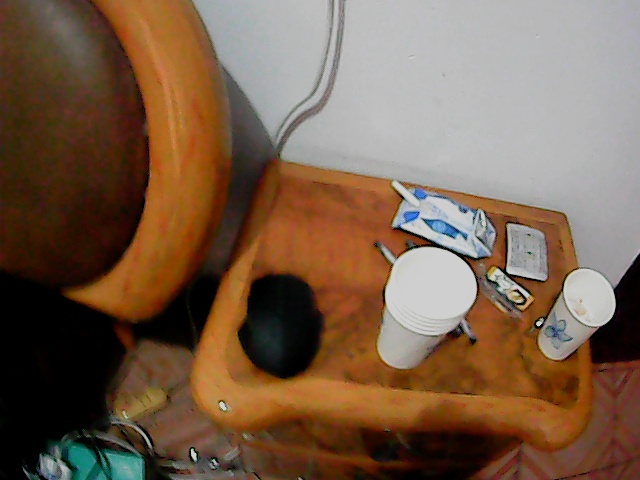cup: (375, 249, 473, 377)
mouse: (240, 270, 323, 377)
